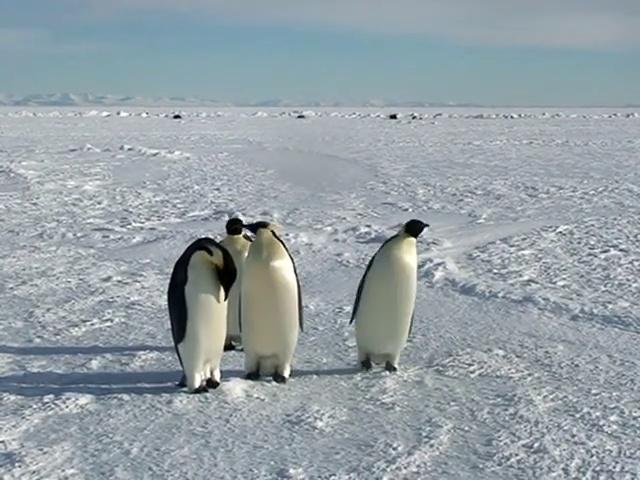animal: (350, 219, 428, 371)
